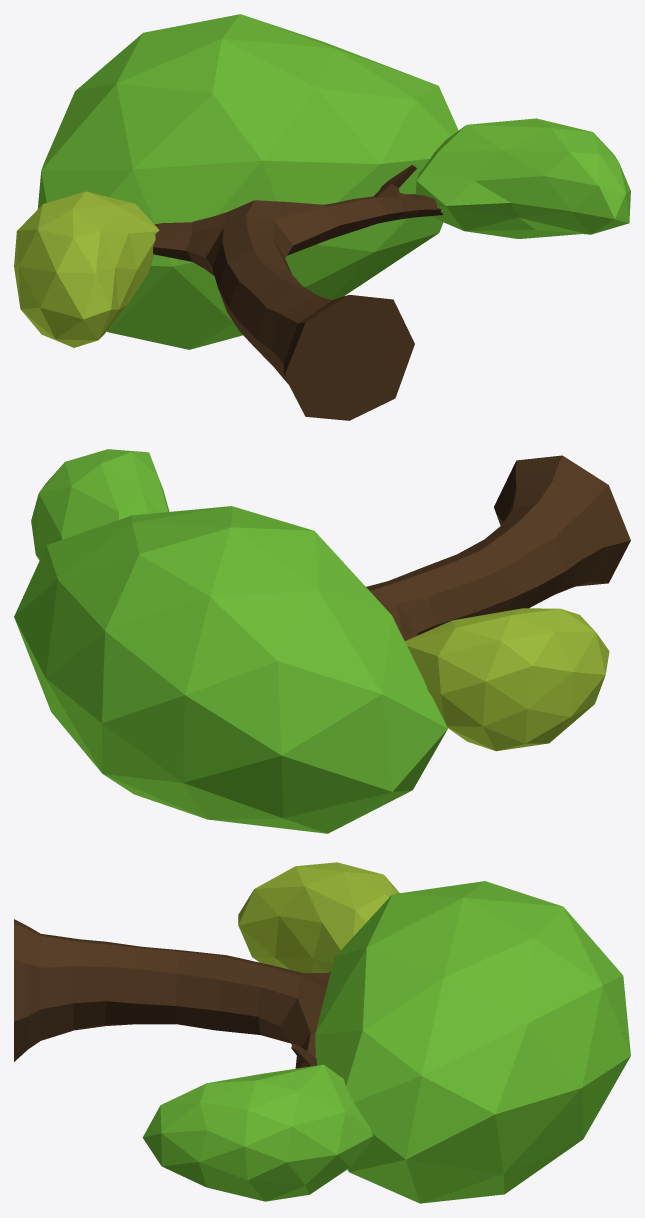
File: WillowTree_1.fbx
The picture shows the model from 3 angles, top to bottom: view 1: azimuth 30°, elevation 25°; view 2: azimuth 150°, elevation 25°; view 3: azimuth 270°, elevation 25°; orthographic projection. The views are drawn at different scales.
Parts seen in each view (by area): view 1: WillowTree_1; view 2: WillowTree_1; view 3: WillowTree_1.
Boxes of the visible parts, x1,y1,x2,y2 form: WillowTree_1: (14, 14, 630, 420); WillowTree_1: (14, 449, 630, 833); WillowTree_1: (14, 862, 630, 1203).
Bounding box in the file's own units: 673 × 318 × 640.
